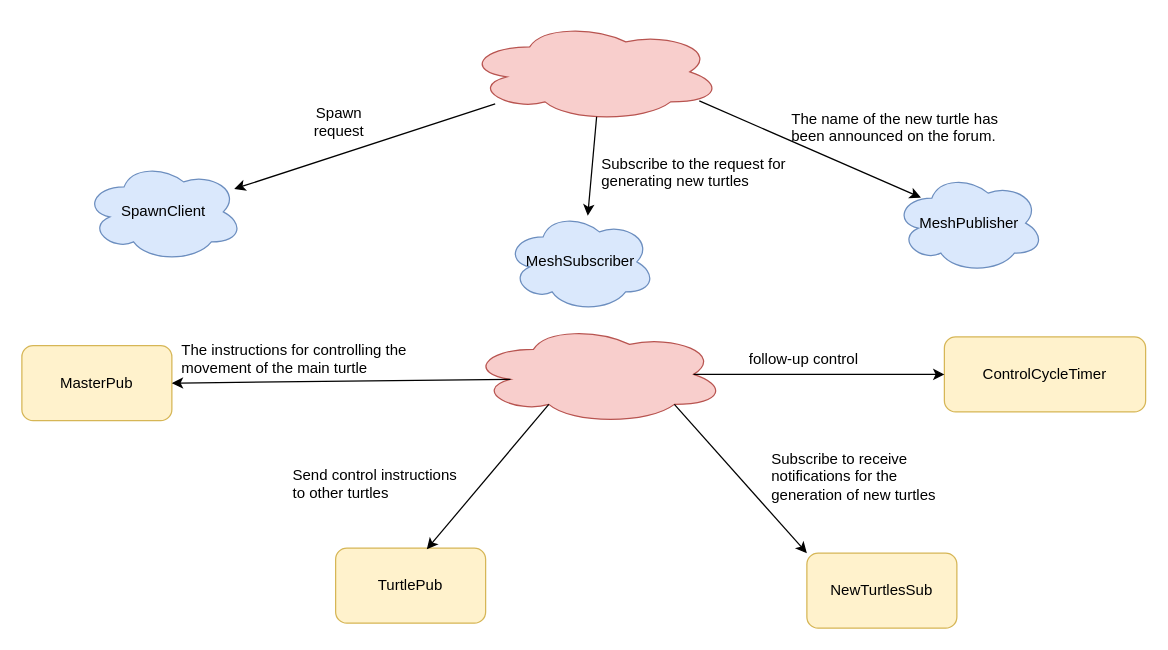
Some shapes in this 1168 by 650 pixel diagram are drawn without their labels. Here are the shapes that lost their labels. From the top down, the centre of each, then its label:
the point at 593,71: TurtleSpawner
the point at 597,373: MasterChainController
